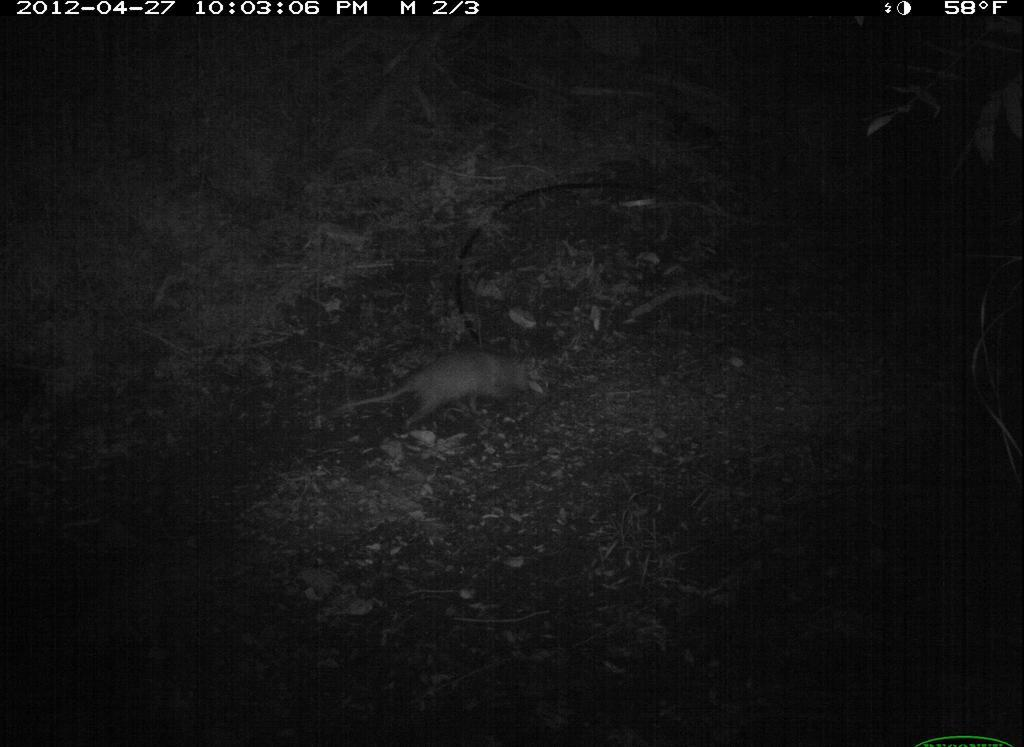opossum: (320, 341, 547, 446)
